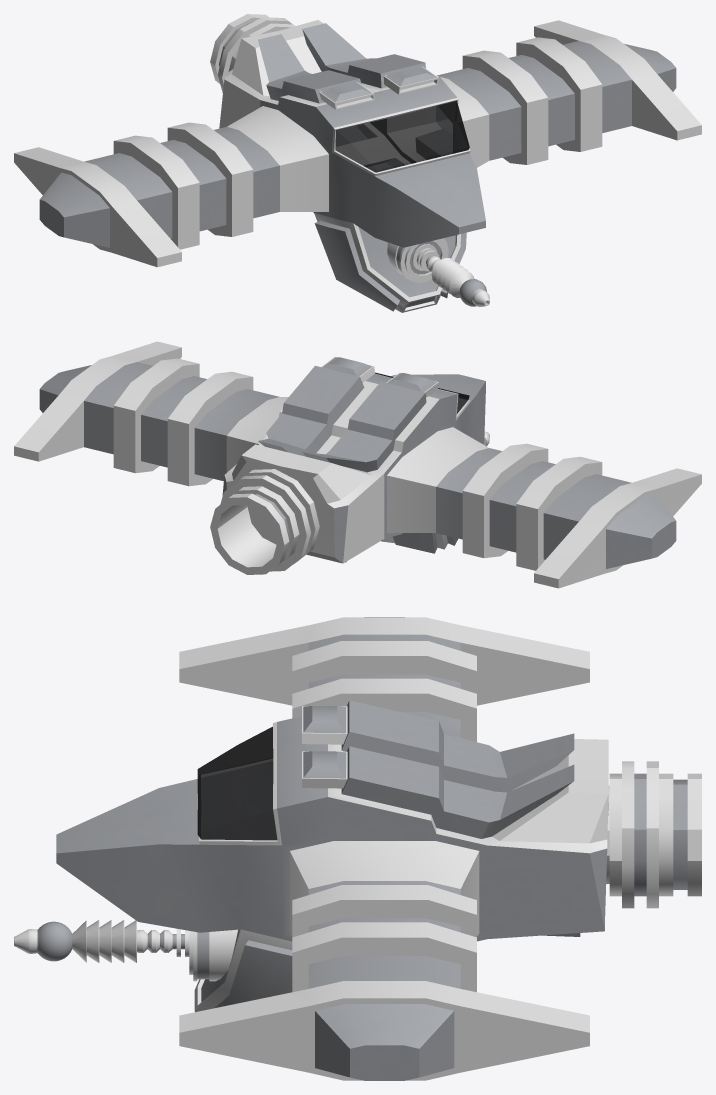
File: CAE.fbx
The picture shows the model from 3 angles, top to bottom: view 1: azimuth 30°, elevation 25°; view 2: azimuth 150°, elevation 25°; view 3: azimuth 270°, elevation 25°; orthographic projection. The views are drawn at different scales.
Parts seen in each view (by area): view 1: CAE; view 2: CAE; view 3: CAE.
Boxes of the visible parts, bbox=[...] form: CAE: bbox=[14, 14, 701, 312]; CAE: bbox=[14, 341, 701, 588]; CAE: bbox=[14, 617, 701, 1080].
Bounding box in the file's own units: 8.9 × 2.8 × 6.04.
